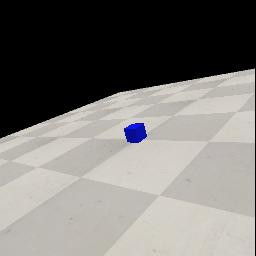box: (124, 123, 147, 143)
